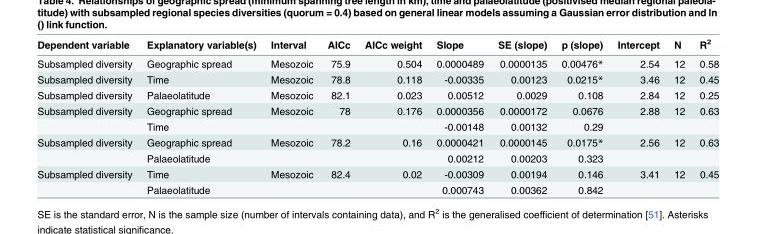table: (36, 36, 718, 195)
table column: (138, 36, 262, 195), (36, 36, 138, 195), (356, 36, 428, 195), (490, 36, 553, 195), (428, 36, 490, 195), (262, 36, 319, 195), (609, 36, 666, 195), (553, 36, 609, 195), (319, 36, 356, 195), (691, 36, 718, 195), (666, 36, 691, 195)
table column header: (36, 36, 718, 53)
table row: (36, 53, 718, 71), (36, 36, 718, 53), (36, 86, 718, 102), (36, 102, 718, 118), (36, 118, 718, 134), (36, 134, 718, 150), (36, 165, 718, 181), (36, 71, 718, 86), (36, 150, 718, 165), (36, 181, 718, 195)
table spanning cell: (36, 102, 138, 134), (36, 134, 138, 165), (36, 165, 138, 195)
